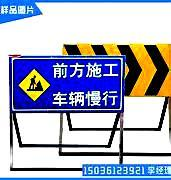sign: (9, 55, 123, 111)
